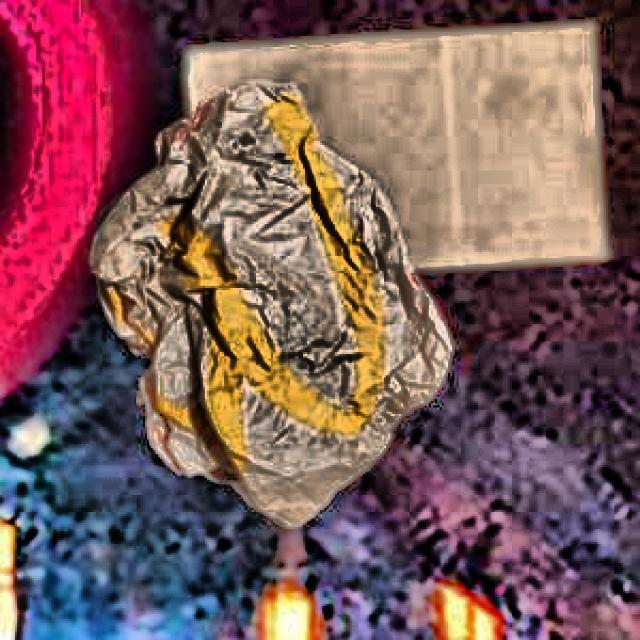Paper-bag: (89, 71, 470, 525), (149, 16, 625, 289)
